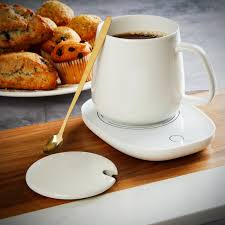mug: (83, 11, 223, 148)
